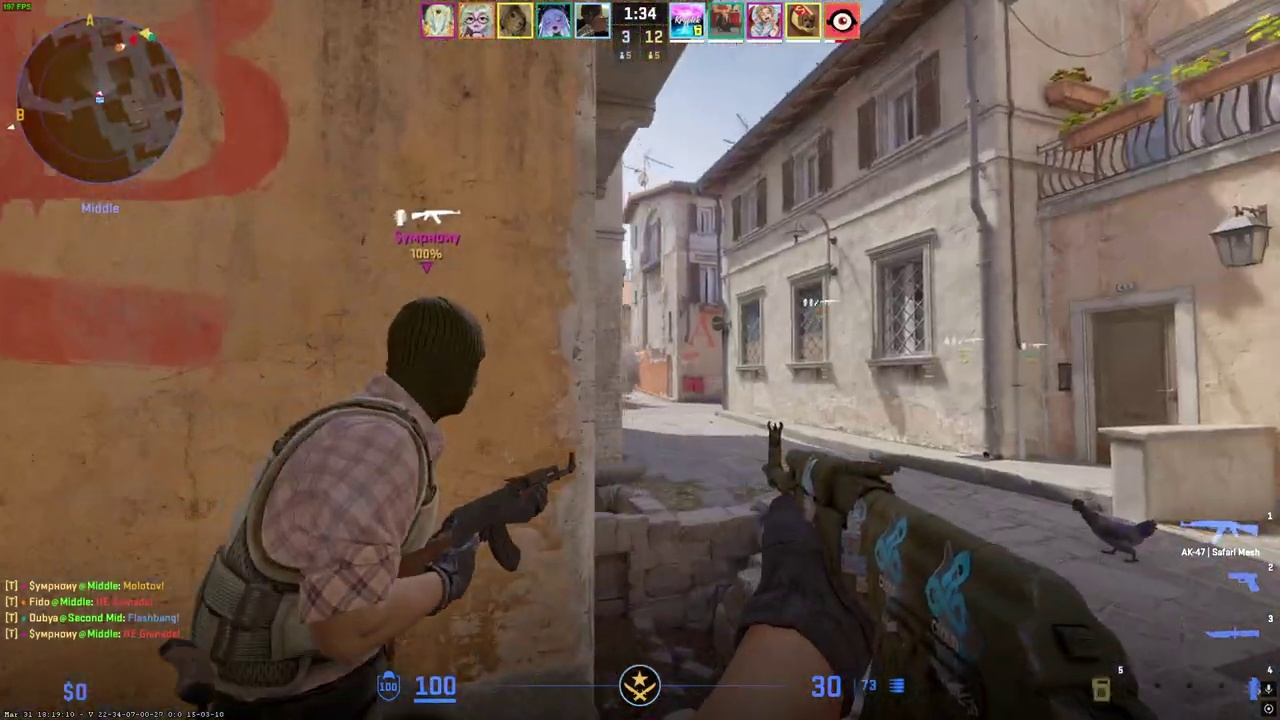Terrorist: (210, 295, 509, 719)
